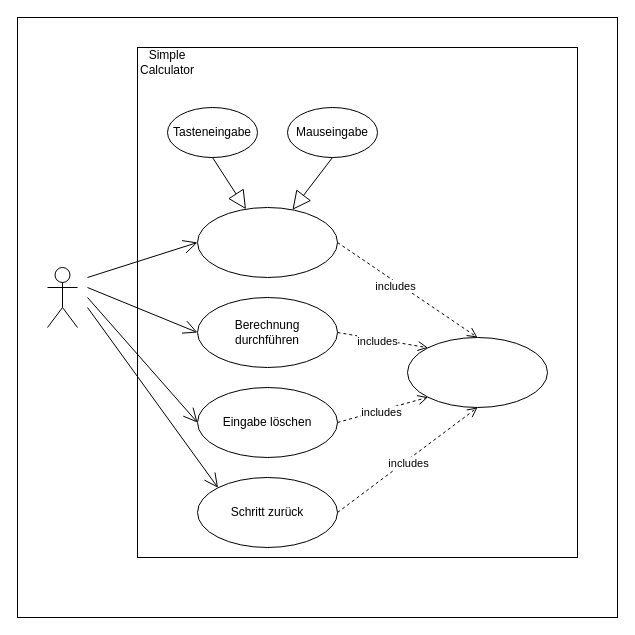
The diagram is 635 pixels wide and 635 high, and some of its shapes have lost their labels. Here are the shapes that lost their labels. From the top down, the centre of each, then its label:
At [267,242]: "Zeichen eingeben".
At [62,297]: "User".
At [477,372]: "Anzeige aktualisieren".
